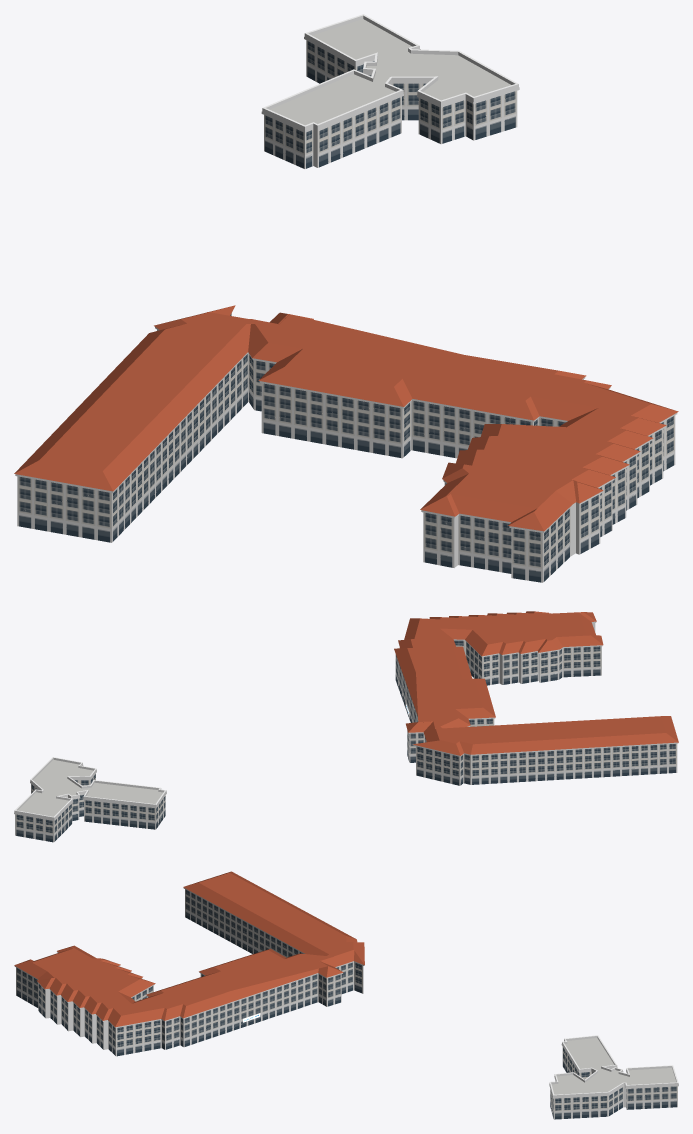
The model's file is casadelmar.glb.
3 renders of one model, top to bottom at view 1: azimuth 30°, elevation 25°; view 2: azimuth 150°, elevation 25°; view 3: azimuth 270°, elevation 25°, orthographic. The views are drawn at different scales.
Visible parts, largest first — view 1: casadelmar_lod0; view 2: casadelmar_lod0; view 3: casadelmar_lod0.
Part boxes in pixels (<box>): casadelmar_lod0: <box>14,14,678,582</box>; casadelmar_lod0: <box>14,611,678,842</box>; casadelmar_lod0: <box>14,871,678,1119</box>.
Size of what is drawn, in the model's own units: 213 by 16.01 by 273.
6 materials, 3 textured.
